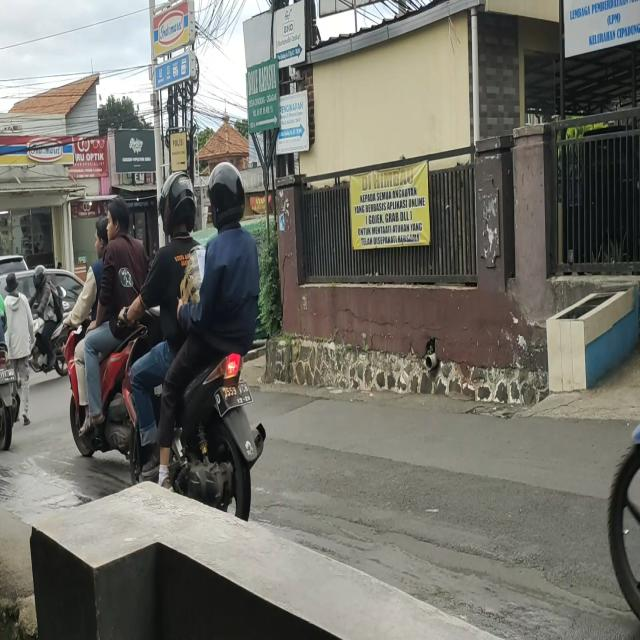helmet: (208, 163, 245, 231), (160, 174, 198, 238), (32, 264, 47, 292)
no-helmet: (107, 200, 127, 240), (92, 214, 108, 251)
